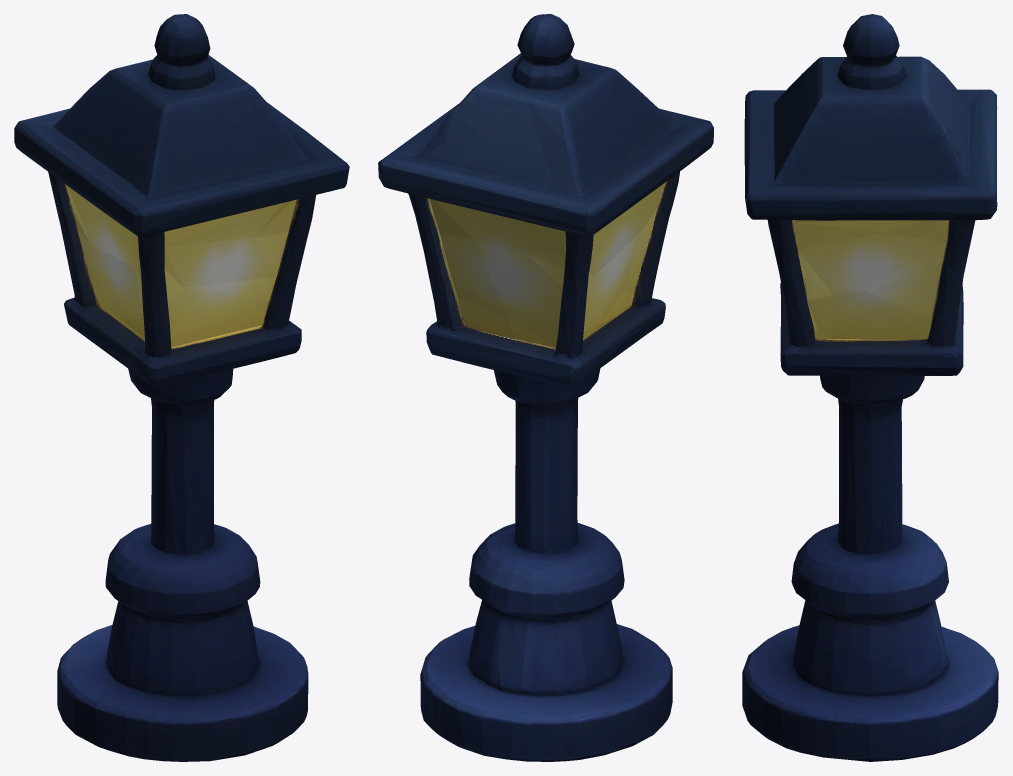
File: streetlight.glb
3 renders of one model, left to right at view 1: azimuth 30°, elevation 25°; view 2: azimuth 150°, elevation 25°; view 3: azimuth 270°, elevation 25°, orthographic.
Visible parts, largest first — view 1: geometry_0; view 2: geometry_0; view 3: geometry_0.
Boxes of the visible parts, left/top/right/bottom form: geometry_0: left=14, top=14, right=349, bottom=761; geometry_0: left=378, top=14, right=713, bottom=761; geometry_0: left=742, top=14, right=998, bottom=761.
Bounding box in the file's own units: 0.3261 × 0.9933 × 0.3322.
1 material, 1 textured.
